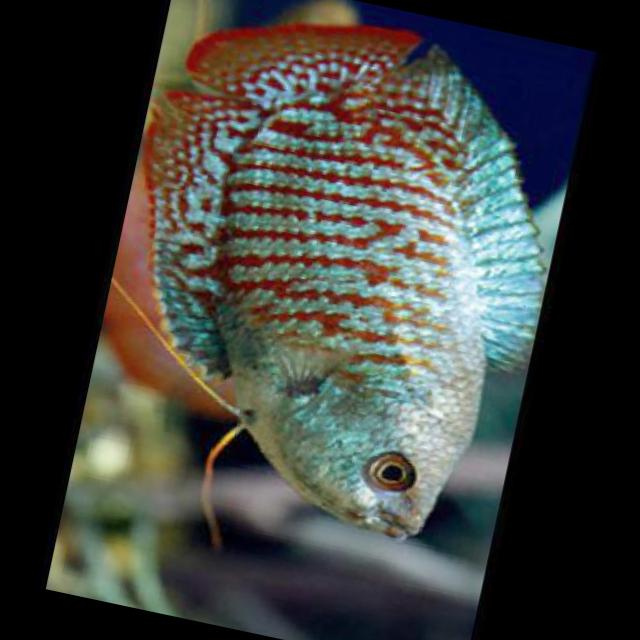Gourami: (77, 0, 592, 560)
